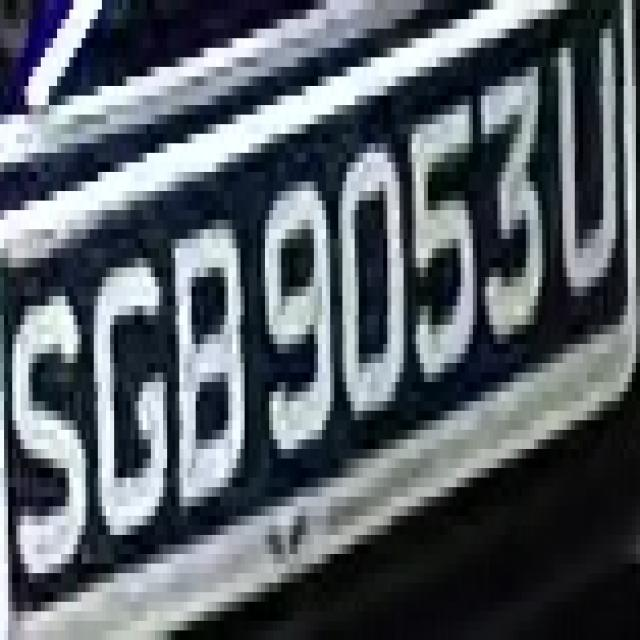0: (322, 115, 412, 420)
3: (469, 39, 542, 354)
5: (395, 76, 481, 430)
9: (257, 152, 342, 478)
B: (167, 201, 245, 535)
G: (90, 220, 171, 564)
S: (8, 248, 98, 592)
U: (550, 29, 624, 334)
